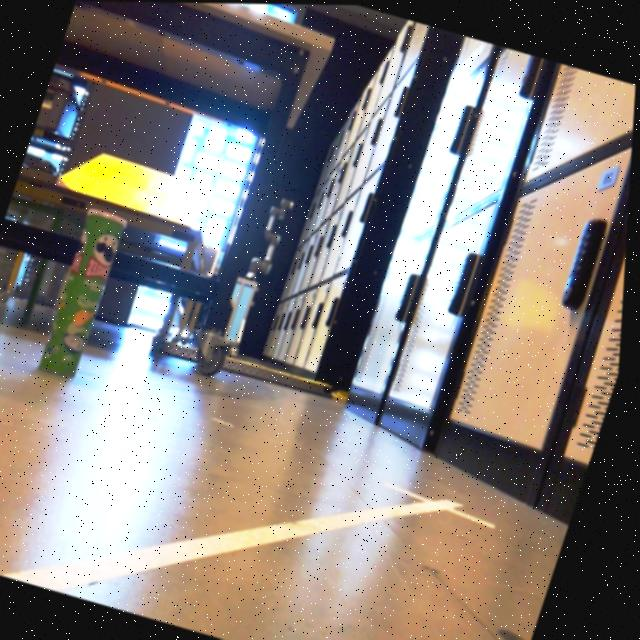greenpringles: (20, 189, 136, 385)
